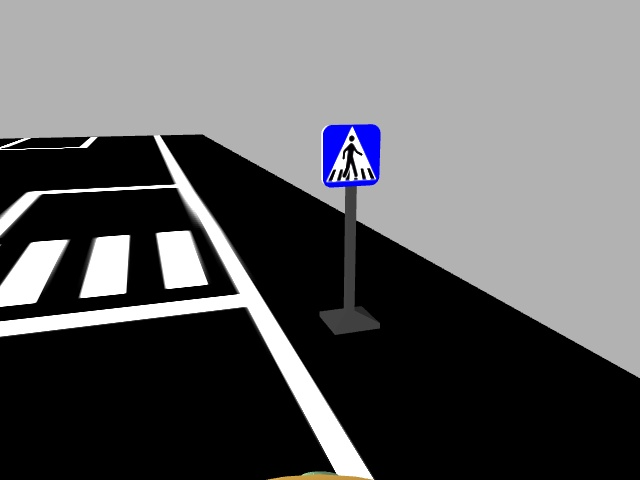Crosswalk: (318, 122, 381, 186)
